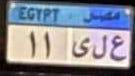1: (39, 29, 57, 61), (26, 31, 36, 59)
ع: (109, 34, 129, 64)
ل: (91, 34, 108, 61)
ي: (71, 34, 90, 58)
